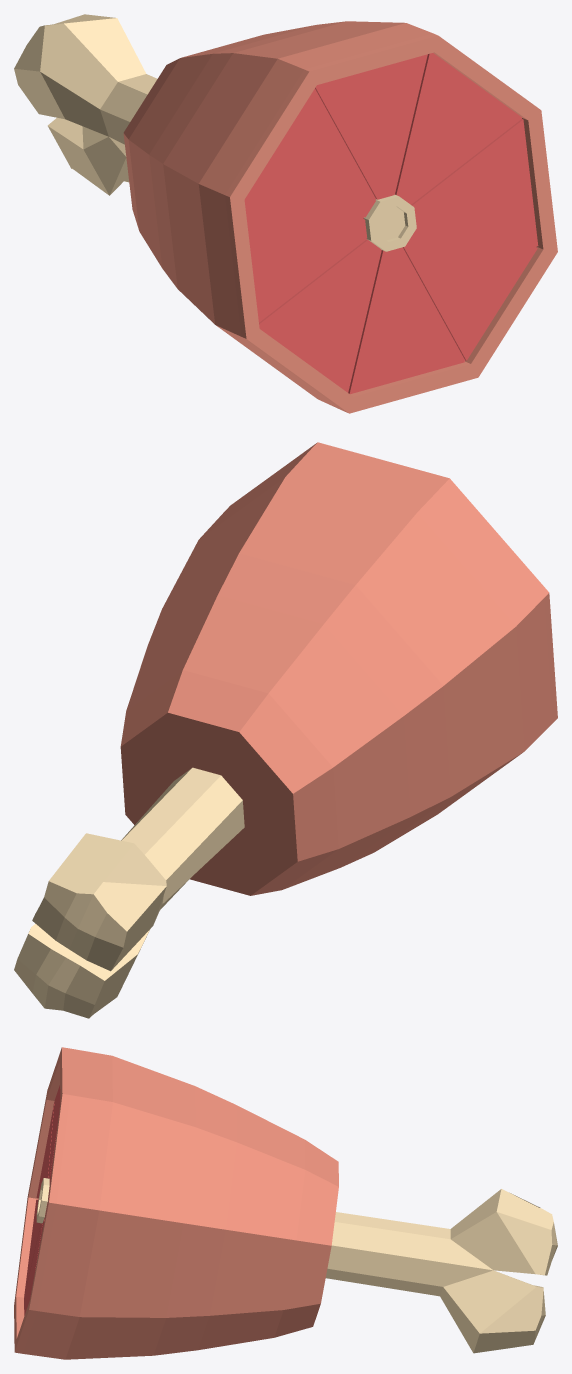
Rendered from meet2.fbx.
The picture shows the model from 3 angles, top to bottom: view 1: azimuth 30°, elevation 25°; view 2: azimuth 150°, elevation 25°; view 3: azimuth 270°, elevation 25°; orthographic projection. The views are drawn at different scales.
Visible parts, largest first — view 1: Plane.022; view 2: Plane.022; view 3: Plane.022.
Boxes of the visible parts, x1=… form: Plane.022: x1=14, y1=14, x2=557, y2=413; Plane.022: x1=14, y1=442, x2=557, y2=1018; Plane.022: x1=14, y1=1047, x2=557, y2=1359.
Bounding box in the file's own units: 0.0874 × 0.0894 × 0.1645.
